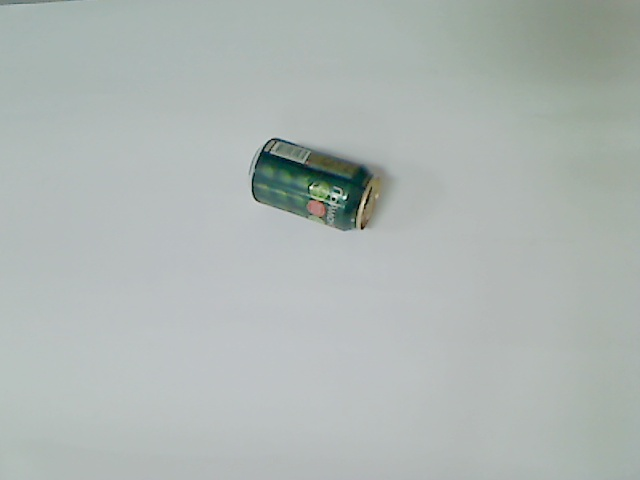can: (247, 135, 381, 233)
